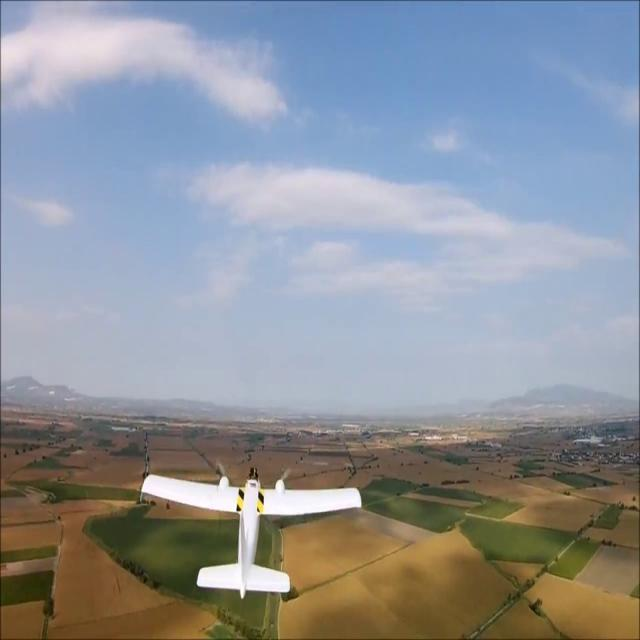iha: (140, 467, 362, 596)
